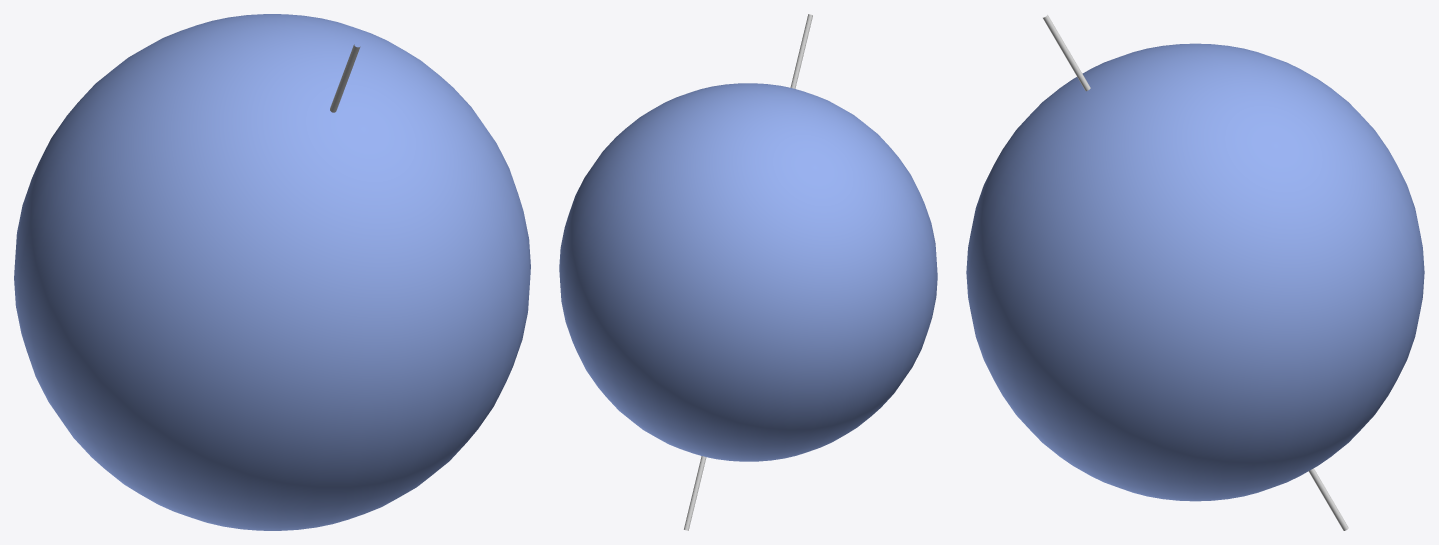
The model's file is neptune.glb.
3 renders of one model, left to right at view 1: azimuth 30°, elevation 25°; view 2: azimuth 150°, elevation 25°; view 3: azimuth 270°, elevation 25°, orthographic. The views are drawn at different scales.
Parts seen in each view (by area): view 1: neptune; view 2: neptune, neptune_axis; view 3: neptune, neptune_axis.
Boxes of the visible parts, <box> form: neptune: <box>14,14,530,530</box>; neptune: <box>559,83,937,461</box>; neptune_axis: <box>684,14,812,530</box>; neptune: <box>966,43,1424,501</box>; neptune_axis: <box>1043,15,1348,530</box>.
Bounding box in the file's own units: 1.06 × 1.32 × 1.06.
